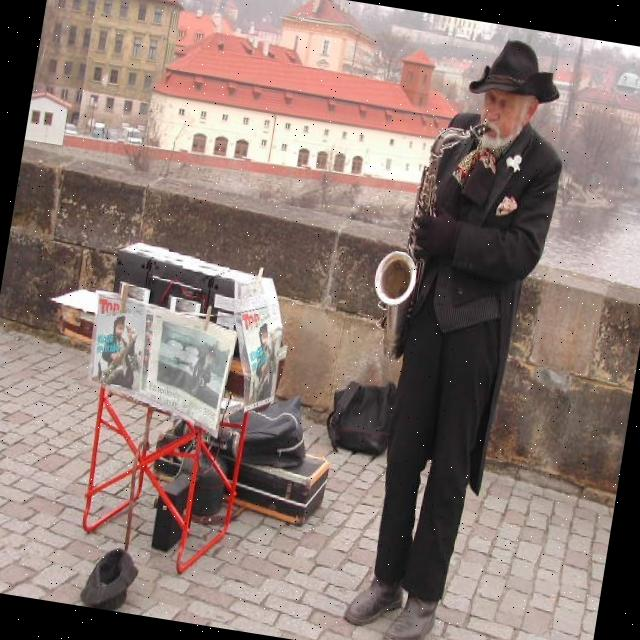saxophone: (360, 108, 493, 373)
